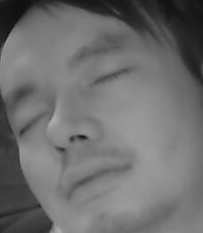blink: (91, 66, 130, 89), (18, 111, 53, 135)
mouth: (60, 156, 131, 204)
